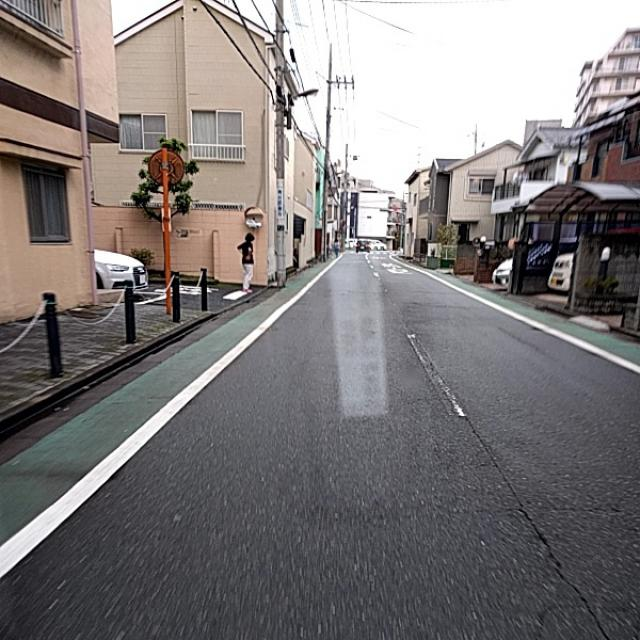pothole: (488, 455, 552, 544)
